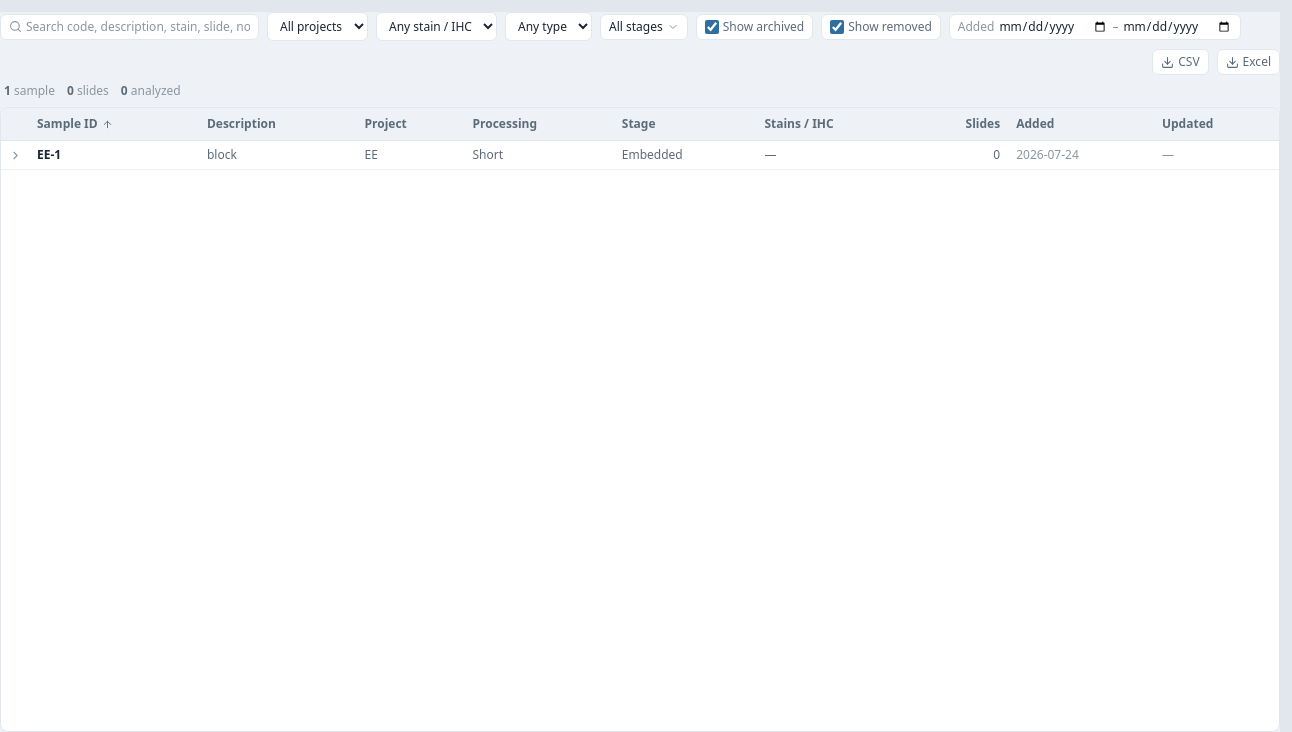
Test: LogsView — correcting a sample's notes › offers a viewer only the notes that were written
Click the text "EE-1" at x=49, y=155, box 37,147 -> 61,163
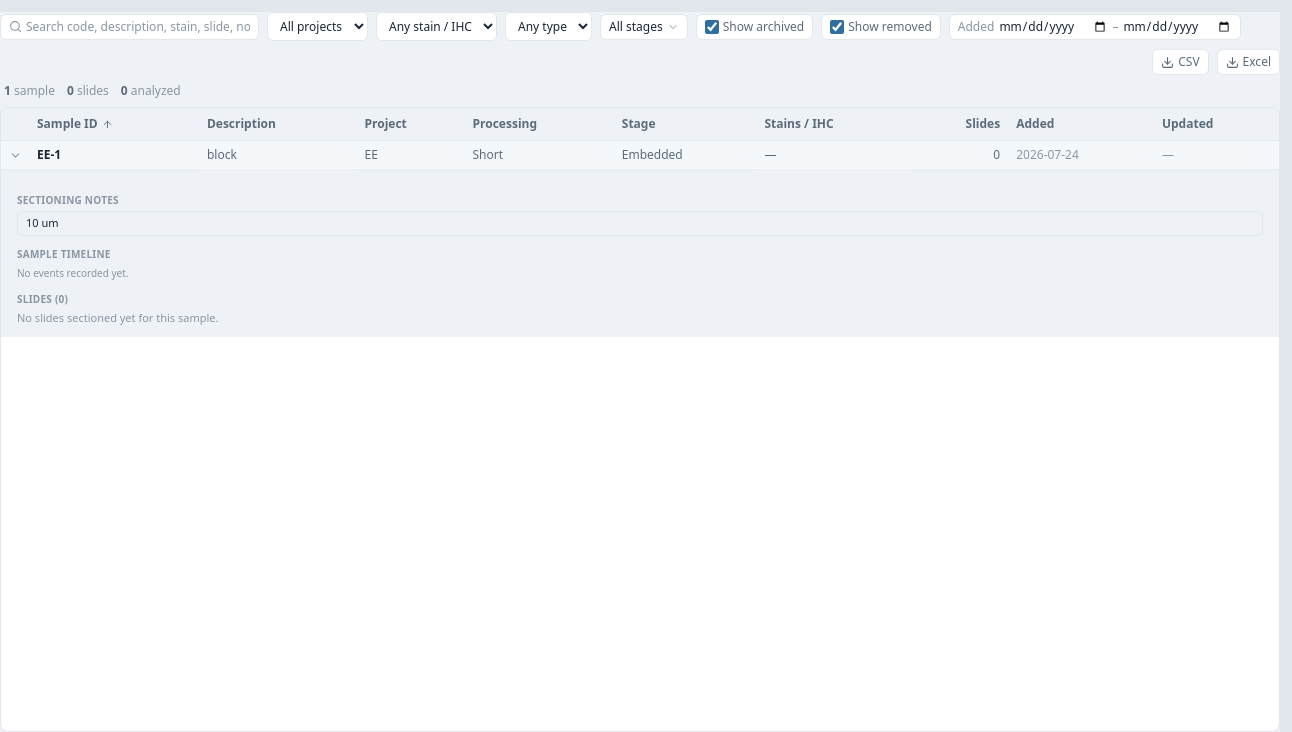
Check: the text named "Sectioning Notes for EE-1" reads "10 um", box 26,215 -> 58,230
